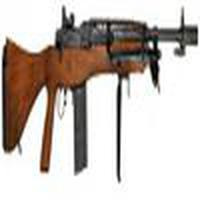gun: (3, 21, 200, 141)
